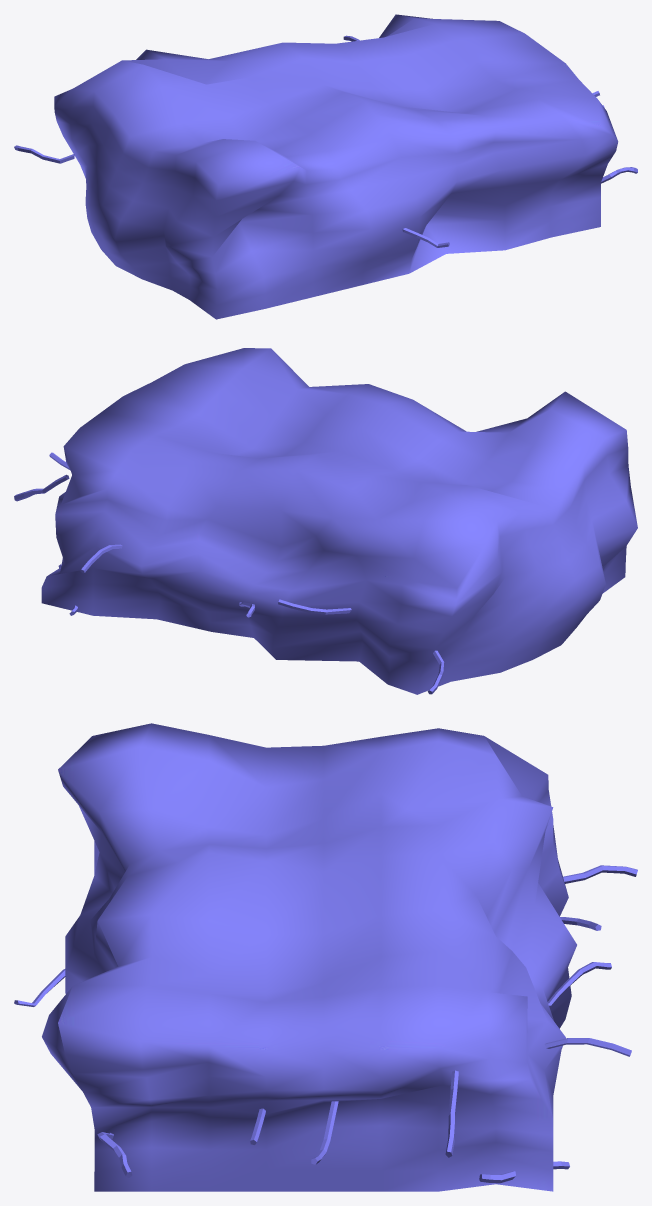
The model's file is DESTROCO2.fbx.
The picture shows the model from 3 angles, top to bottom: view 1: azimuth 30°, elevation 25°; view 2: azimuth 150°, elevation 25°; view 3: azimuth 270°, elevation 25°; orthographic projection. The views are drawn at different scales.
Visible parts, largest first — view 1: polySurface18; view 2: polySurface18; view 3: polySurface18.
Boxes of the visible parts, <box> form: polySurface18: <box>14,14,637,319</box>; polySurface18: <box>14,348,637,694</box>; polySurface18: <box>14,723,637,1191</box>.
Bounding box in the file's own units: 6.61 × 1.95 × 5.04.
